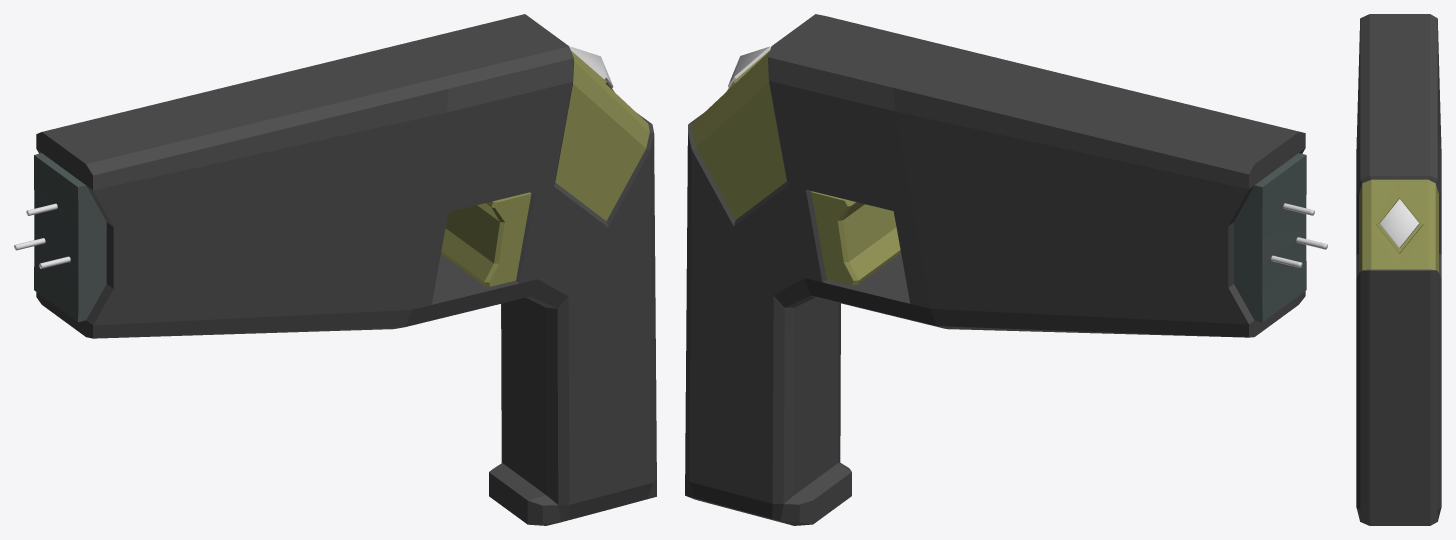
Rendered from gun.fbx.
3 views of the same model, side by side, from view 1: azimuth 30°, elevation 25°; view 2: azimuth 150°, elevation 25°; view 3: azimuth 270°, elevation 25° (orthographic). The views are drawn at different scales.
Visible parts, largest first — view 1: pCylinder5; view 2: pCylinder5; view 3: pCylinder5.
Boxes of the visible parts, x1,y1,x2,y2 form: pCylinder5: (14,14,656,525); pCylinder5: (685,14,1327,525); pCylinder5: (1356,14,1441,525).
Bounding box in the file's own units: 18.61 × 13.92 × 3.3.
